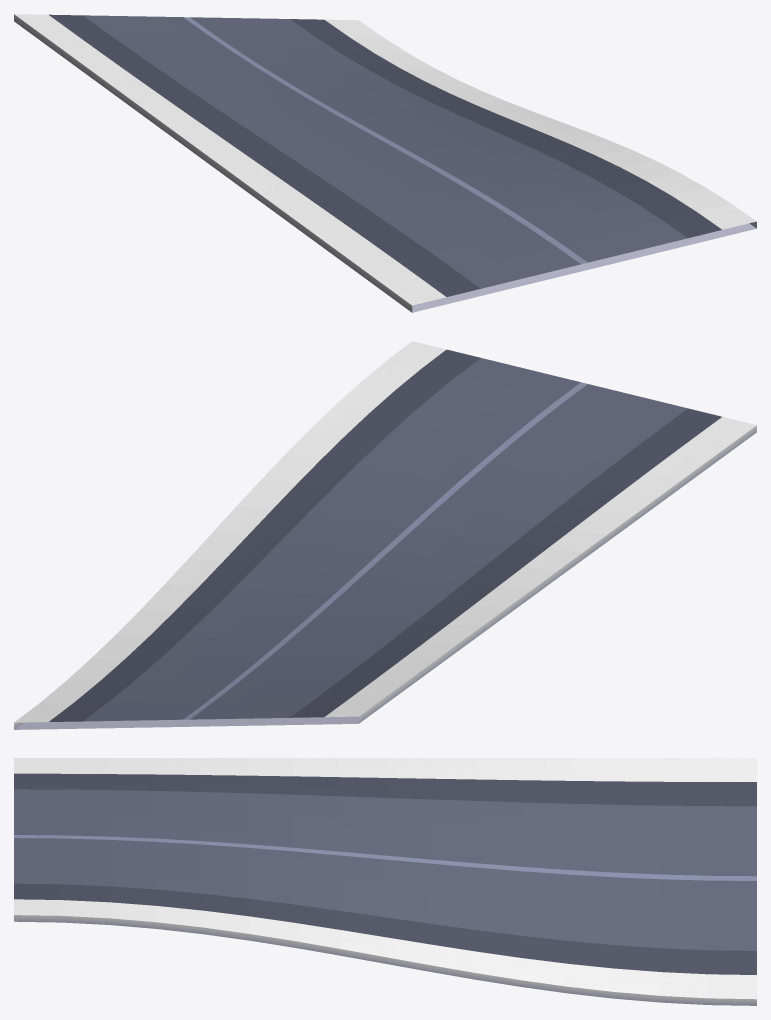
Rendered from road-Straight-Flat-HalfBankedRight-Down1-Center-Size2.glb.
3 views of the same model, one above another, from view 1: azimuth 30°, elevation 25°; view 2: azimuth 150°, elevation 25°; view 3: azimuth 270°, elevation 25° (orthographic). The views are drawn at different scales.
Visible parts, largest first — view 1: road-Straight-Flat-HalfBankedRight-Down1-Center-Size2; view 2: road-Straight-Flat-HalfBankedRight-Down1-Center-Size2; view 3: road-Straight-Flat-HalfBankedRight-Down1-Center-Size2.
Part boxes in pixels (x1,y1,x2,y2): road-Straight-Flat-HalfBankedRight-Down1-Center-Size2: [14, 14, 756, 312]; road-Straight-Flat-HalfBankedRight-Down1-Center-Size2: [14, 341, 756, 729]; road-Straight-Flat-HalfBankedRight-Down1-Center-Size2: [14, 758, 756, 1005].
Bounding box in the file's own units: 1 × 0.27 × 2.
1 material, 1 textured.
